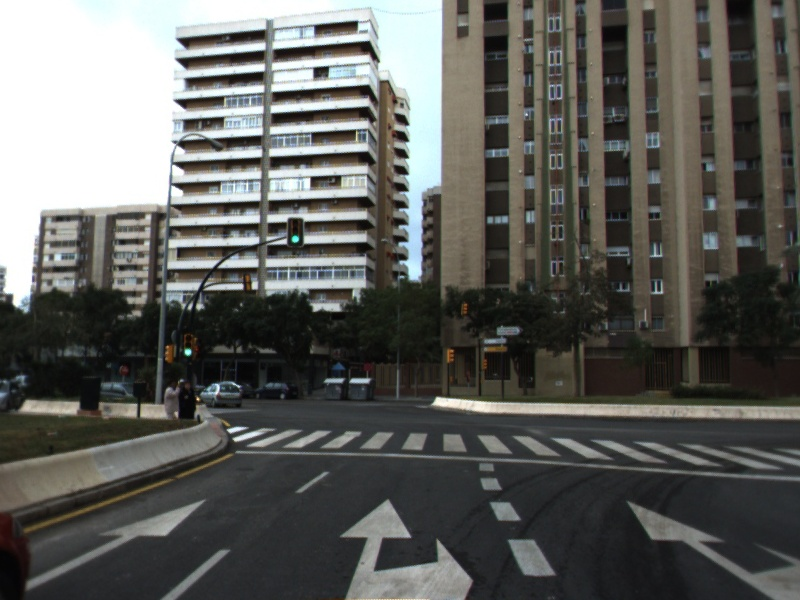STRAIGHT: (26, 495, 212, 592)
STRAIGHT_RIGHT: (622, 494, 800, 599), (336, 493, 476, 600)
